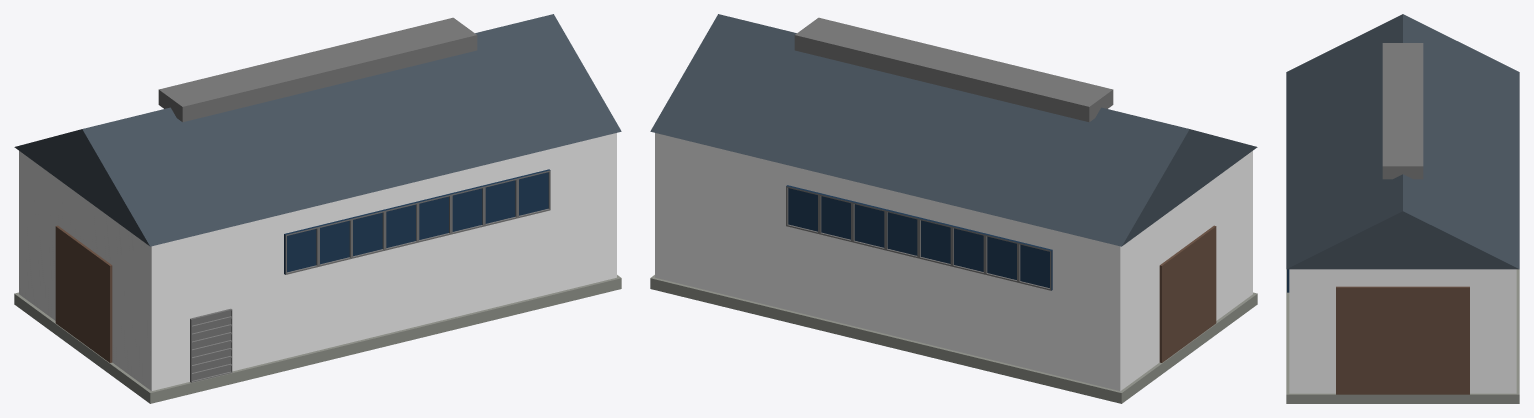
Rendered from site_shed_close.fbx.
3 views of the same model, side by side, from view 1: azimuth 30°, elevation 25°; view 2: azimuth 150°, elevation 25°; view 3: azimuth 270°, elevation 25° (orthographic). The views are drawn at different scales.
Parts seen in each view (by area): view 1: a1059/0/site_shed_close; view 2: a1059/0/site_shed_close; view 3: a1059/0/site_shed_close.
Boxes of the visible parts, bbox=[...] form: a1059/0/site_shed_close: bbox=[14, 14, 621, 403]; a1059/0/site_shed_close: bbox=[650, 14, 1257, 403]; a1059/0/site_shed_close: bbox=[1286, 14, 1519, 403].
Bounding box in the file's own units: 16 × 7.6 × 8.
